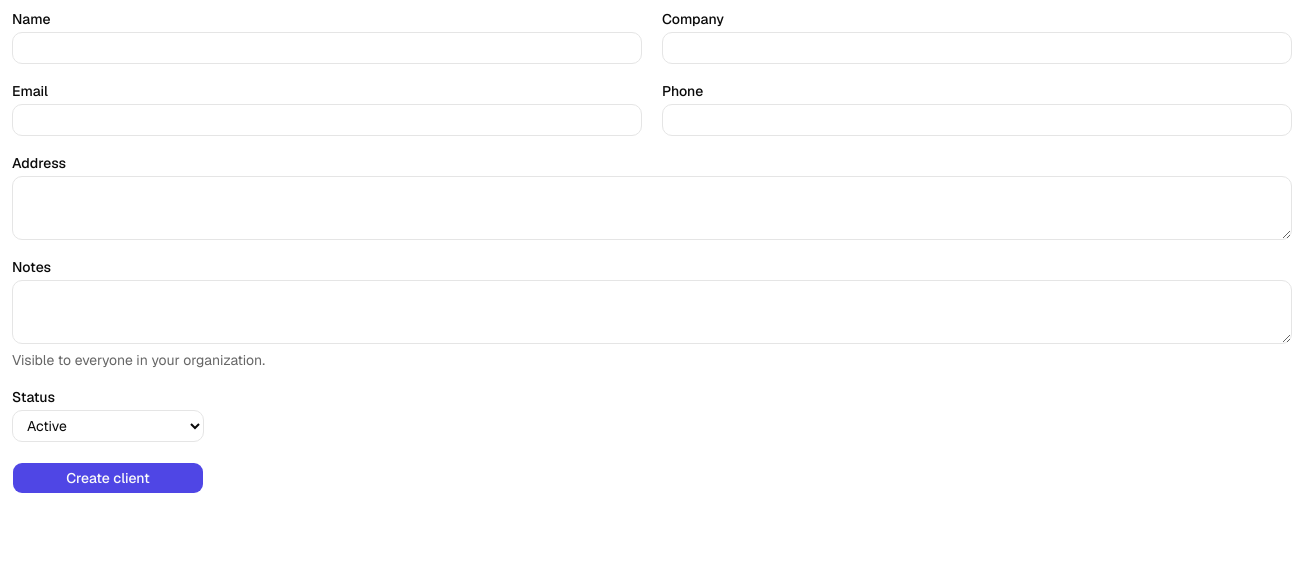
Test: ClientForm › shows server validation errors next to the fields
This screenshot has width=1304, height=562.
Click the button "Create client": (108, 478) [12,462,204,494]
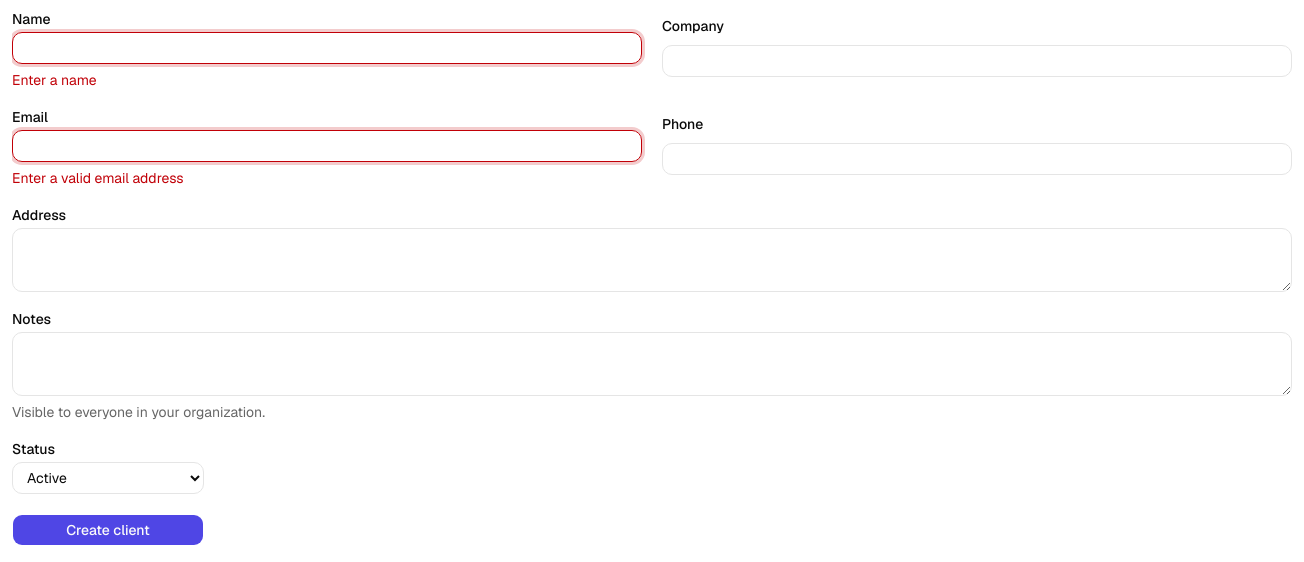
Check: the text "Enter a name" is shown, box [12,71,97,89]
Check: the text "Enter a valid email address" is shown, box [12,169,184,187]
